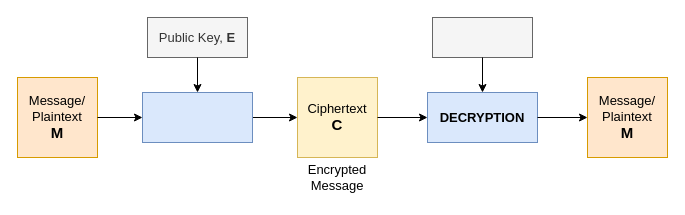
Image size: 685x215. Some labels were removed from this diagram. The box of each missing label's shape, as (x1, y1, x2, y2) in pixels:
ENCRYPTION: (142, 92, 252, 142)
Private Key, D: (432, 16, 532, 58)
